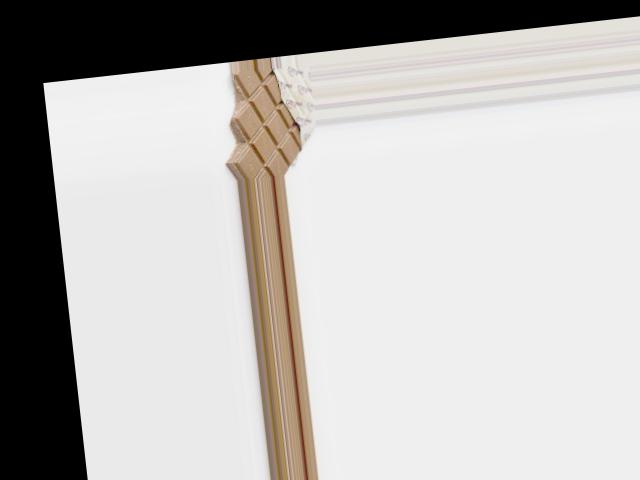chocolate: (224, 63, 320, 179)
